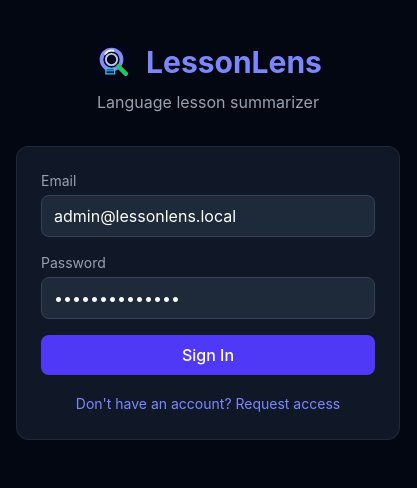
it: LoginPage › shows error on failed login
The width and height of the screenshot is (417, 488).
Clear the field: (208, 216) x1=41 y1=195 x2=375 y2=237
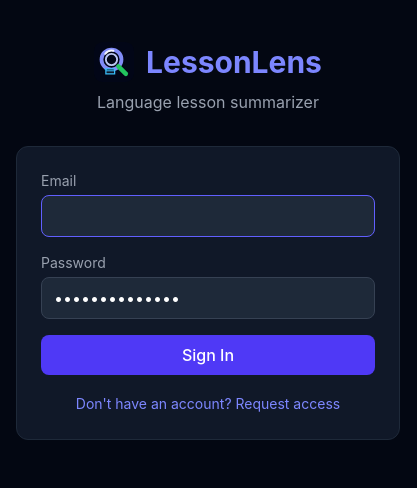
Clear the password field: (208, 298) x1=41 y1=277 x2=375 y2=319
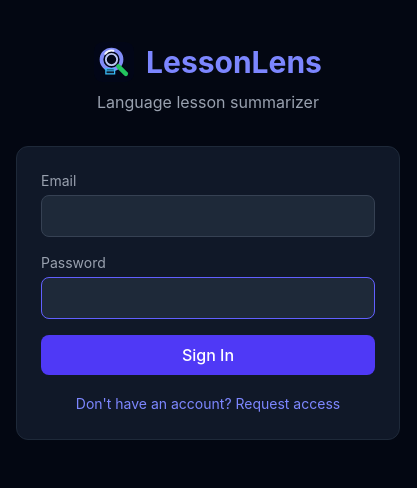
In the field: (208, 216) x1=41 y1=195 x2=375 y2=237, type "test@test.com"
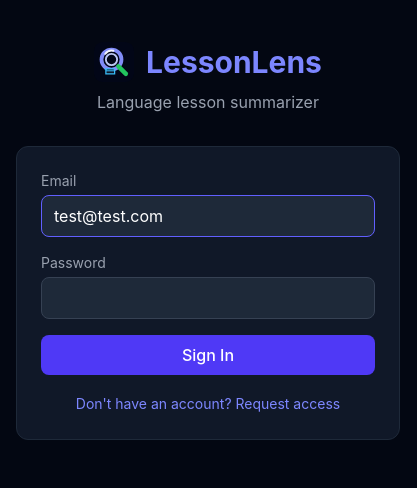
In the password field: (208, 298) x1=41 y1=277 x2=375 y2=319, type "wrongpassword"
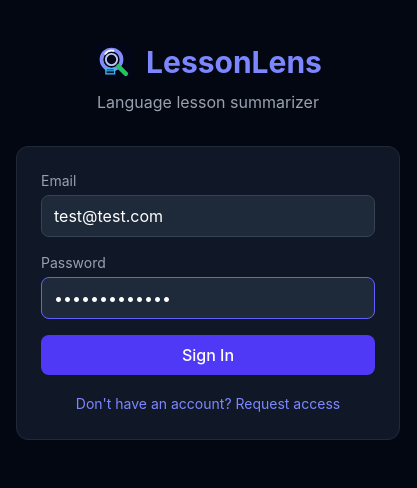
Click the button "Sign In": (208, 355) x1=41 y1=335 x2=375 y2=375
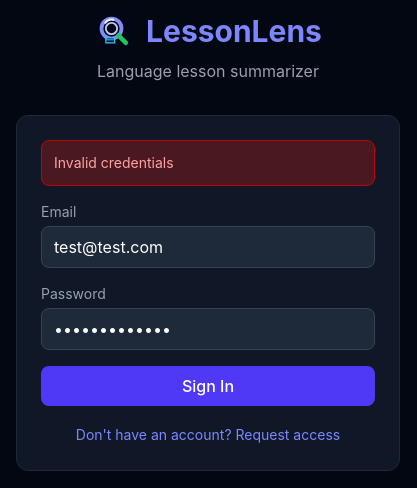
Result: the text "Invalid credentials" is shown at x1=41 y1=140 x2=375 y2=186
